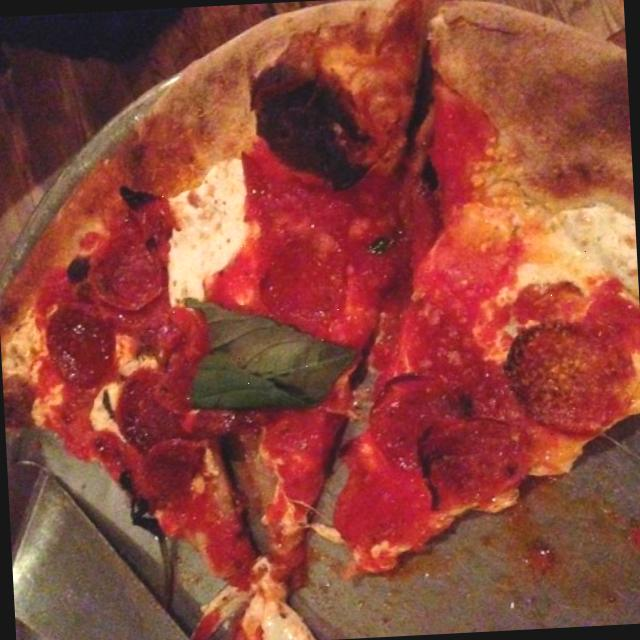basil: (165, 284, 366, 431)
cheese: (513, 193, 640, 327), (154, 164, 247, 312)
pepperoni: (376, 364, 529, 510), (500, 310, 636, 452), (250, 226, 362, 332), (80, 226, 173, 322), (43, 297, 116, 400), (110, 371, 200, 451), (137, 434, 204, 502)
pizza: (0, 1, 640, 594)
